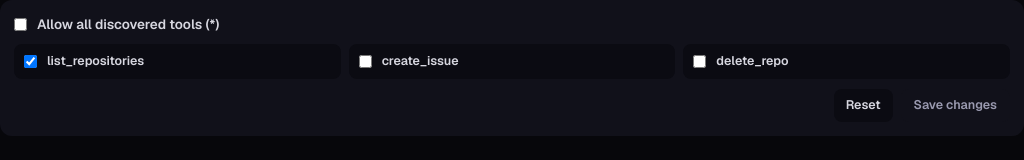
Test case: ToolMatrix › Reset restores the saved selection (clean state)
Click the checkbox with test id "admin-mcp-server-11-tool-create_issue".
click(365, 62)  # box [359, 55, 372, 68]
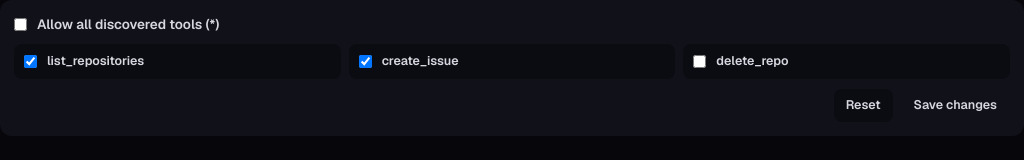
Expected: the button with test id "admin-mcp-server-11-tool-matrix-save" is enabled, [900, 89, 1010, 122]
Click the button with test id "admin-mcp-server-11-tool-matrix-reset".
click(863, 105)  # box [834, 89, 892, 122]
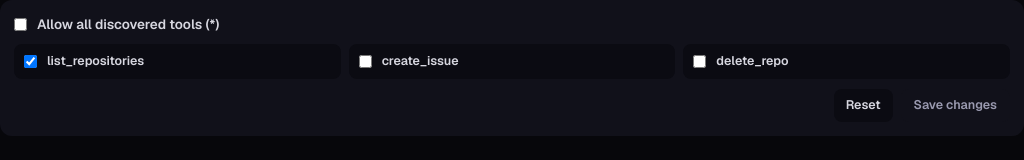
Expected: the button with test id "admin-mcp-server-11-tool-matrix-save" is disabled, [900, 89, 1010, 122]
